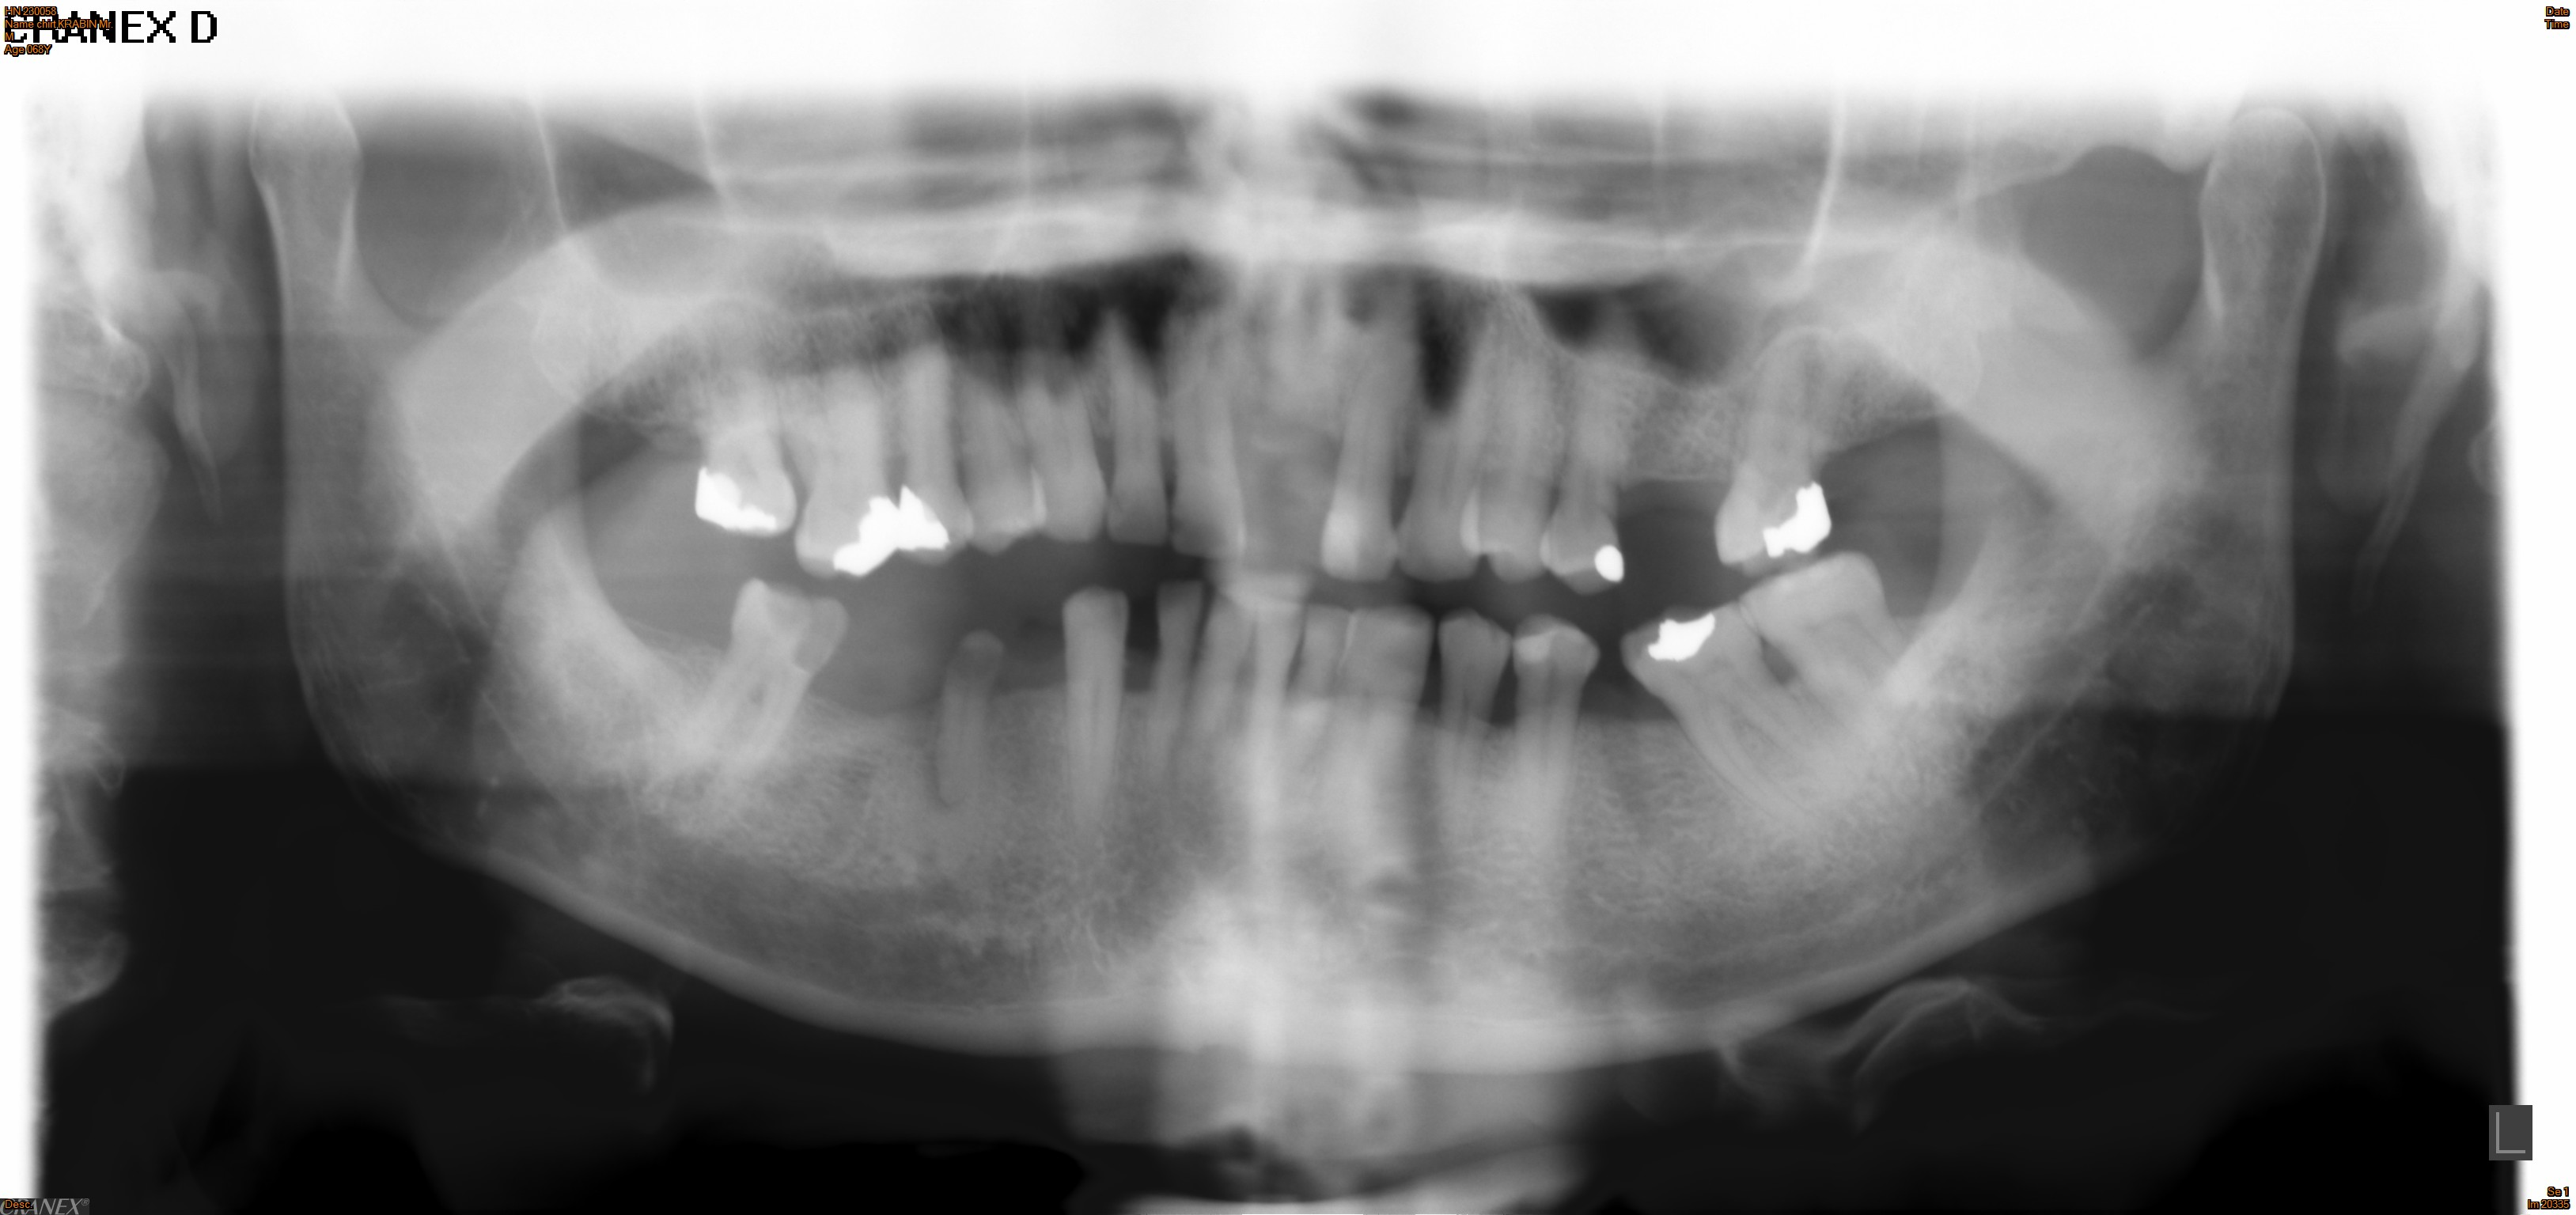periodontitis: (1612, 593, 1838, 826)
